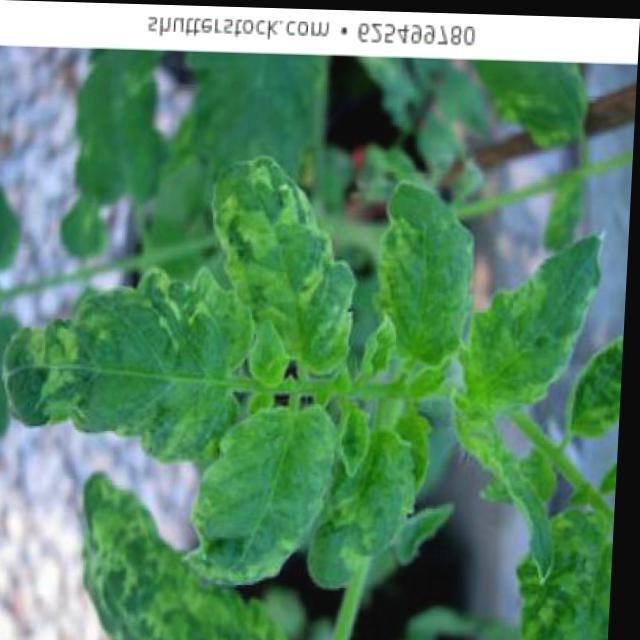Tomato yellow virus leaf: (0, 261, 271, 468), (209, 149, 363, 382), (194, 388, 360, 595), (450, 225, 606, 422), (376, 153, 484, 371)
